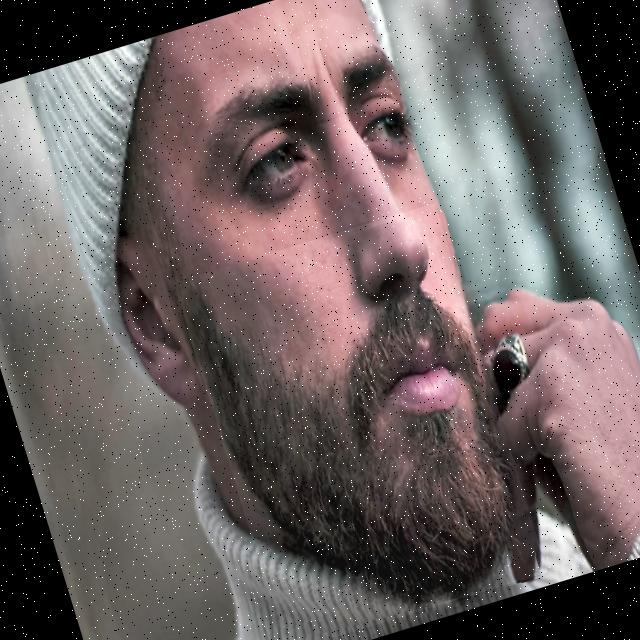beard: (177, 280, 513, 605)
